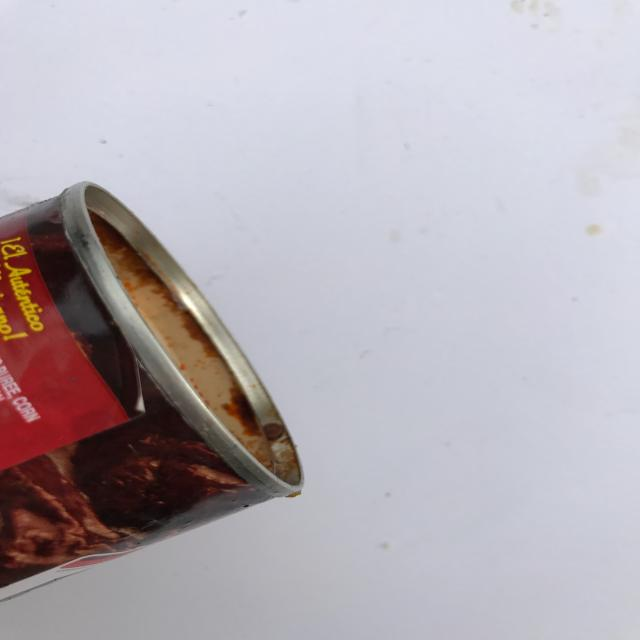metal: (1, 180, 305, 600)
